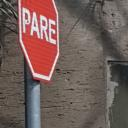Pare: (15, 0, 62, 83)
